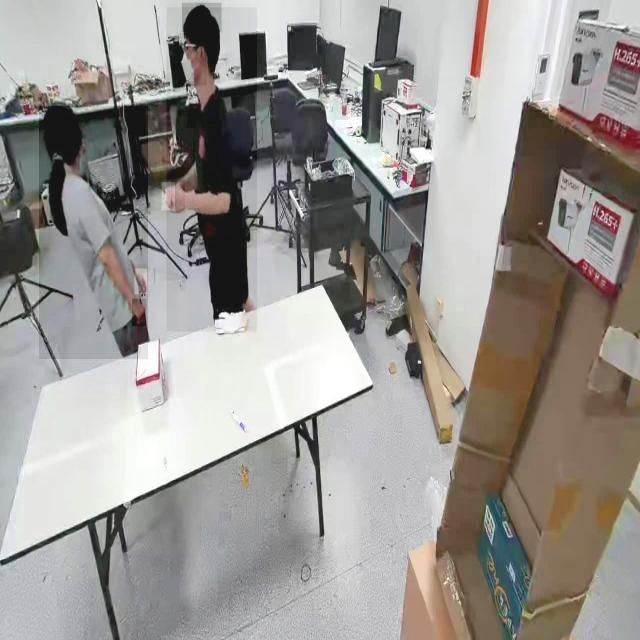face_mask: (178, 33, 207, 86)
hand_noglove: (171, 180, 185, 214), (132, 299, 147, 327), (162, 182, 176, 212), (134, 269, 148, 295)
head_nohelmet: (182, 3, 222, 33), (42, 101, 79, 131)
person: (166, 7, 258, 333), (39, 106, 149, 360)
